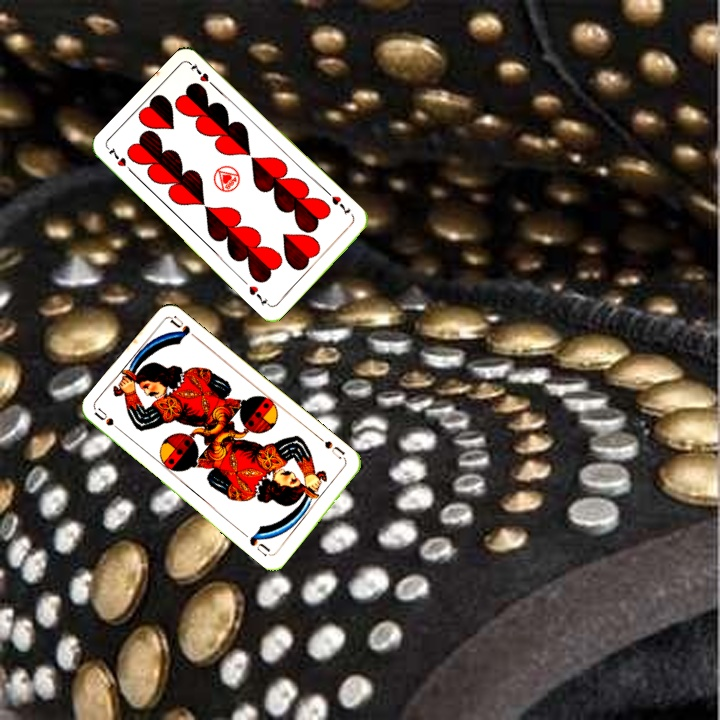H7: (104, 143, 136, 177), (327, 192, 353, 217)
SU: (91, 405, 127, 437), (315, 433, 349, 463)
